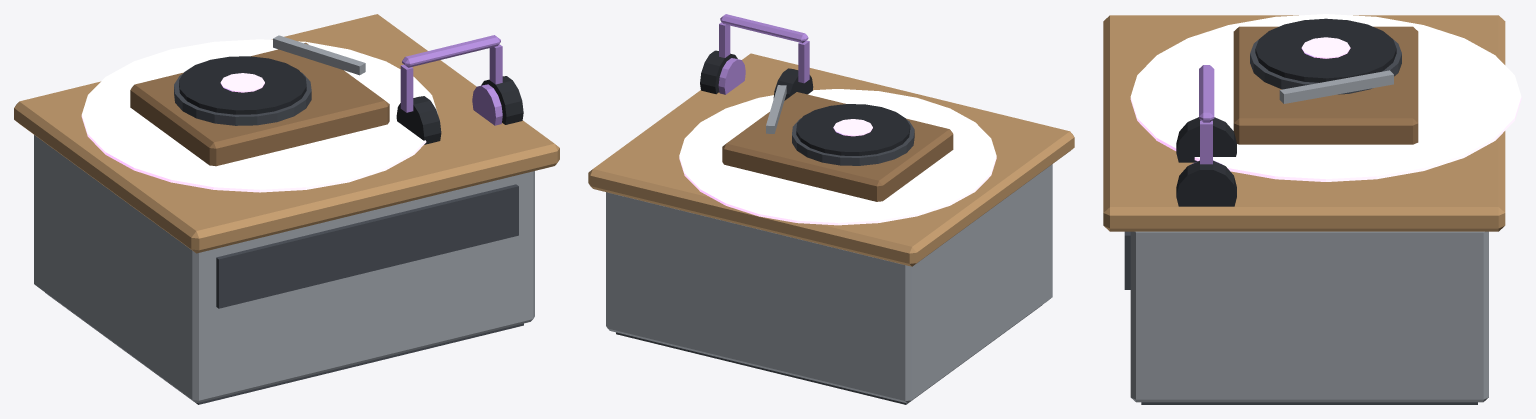
File: headphones_p2_4.glb
3 renders of one model, left to right at view 1: azimuth 30°, elevation 25°; view 2: azimuth 150°, elevation 25°; view 3: azimuth 270°, elevation 25°, orthographic. The views are drawn at different scales.
Visible parts, largest first — view 1: headphones_p2_4_mesh_Desk, headphones_p2_4_mesh; view 2: headphones_p2_4_mesh_Desk, headphones_p2_4_mesh; view 3: headphones_p2_4_mesh_Desk, headphones_p2_4_mesh.
Part boxes in pixels (x1=…): headphones_p2_4_mesh_Desk: x1=14, y1=14, x2=559, y2=404; headphones_p2_4_mesh: x1=81, y1=35, x2=523, y2=192; headphones_p2_4_mesh_Desk: x1=588, y1=53, x2=1074, y2=404; headphones_p2_4_mesh: x1=679, y1=14, x2=996, y2=225; headphones_p2_4_mesh_Desk: x1=1103, y1=15, x2=1505, y2=404; headphones_p2_4_mesh: x1=1130, y1=14, x2=1521, y2=206.
Bounding box in the file's own units: 0.86 × 0.596 × 0.77.
